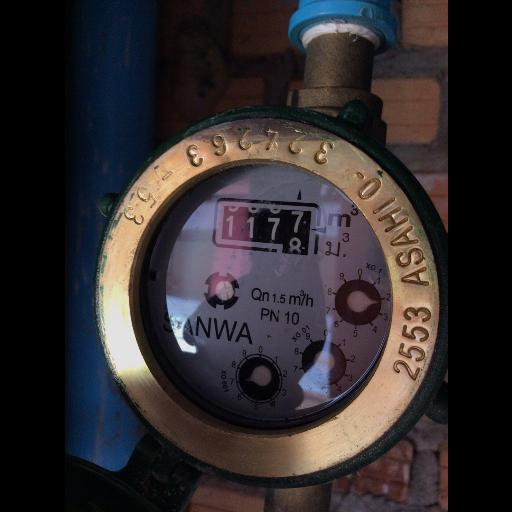1: (241, 206, 260, 242), (221, 206, 240, 241)
7: (284, 209, 308, 255), (263, 208, 283, 244)
border_water_meter_number: (211, 194, 328, 257)
